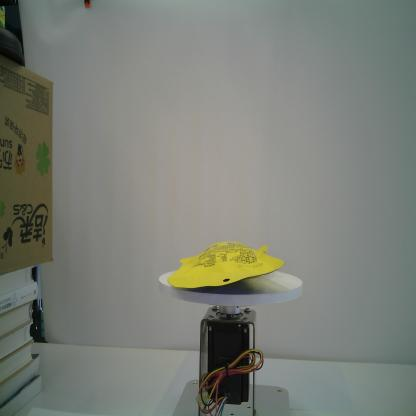Dried Fruit: (166, 240, 286, 289)
